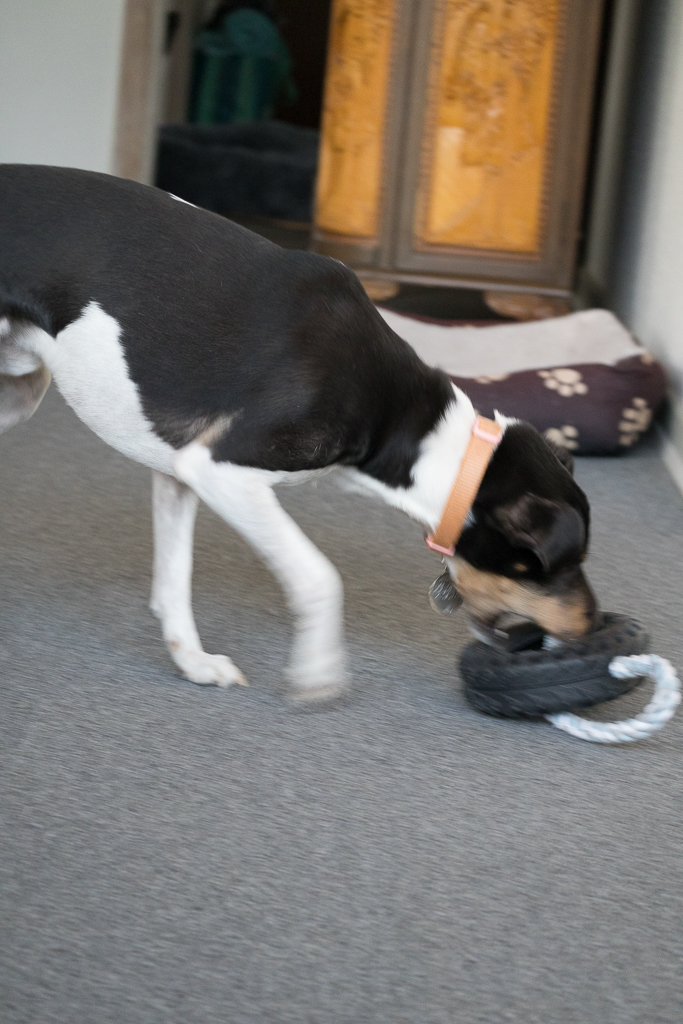Dog: (0, 137, 616, 739)
